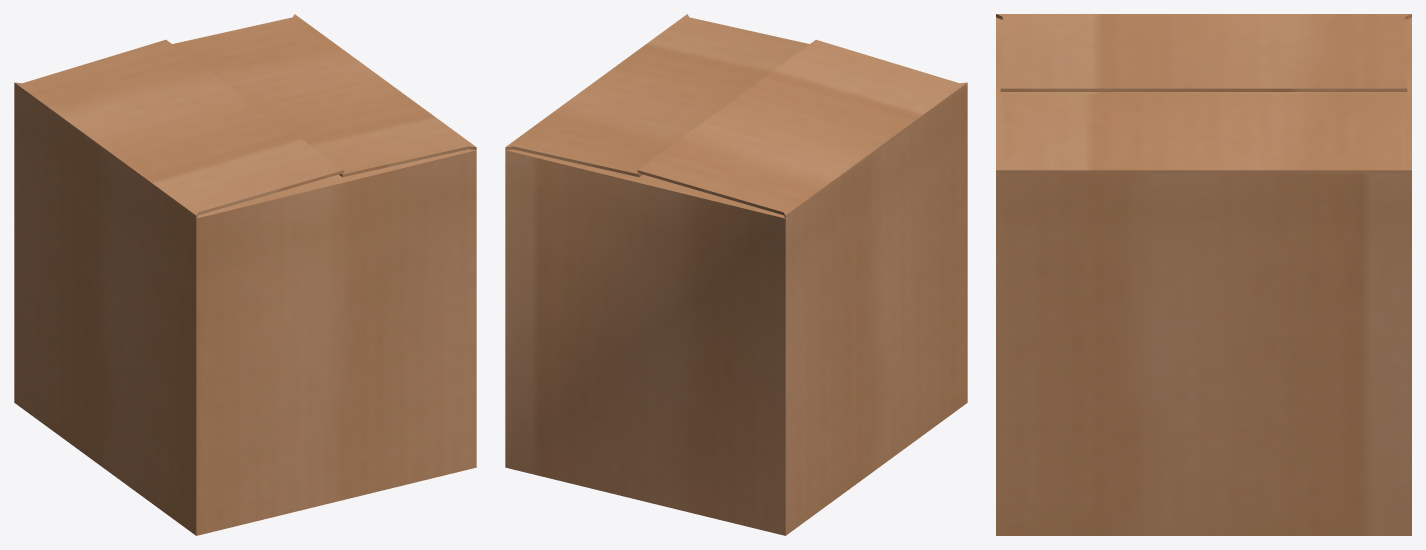
3 renders of one model, left to right at view 1: azimuth 30°, elevation 25°; view 2: azimuth 150°, elevation 25°; view 3: azimuth 270°, elevation 25°, orthographic. The views are drawn at different scales.
Visible parts, largest first — view 1: Box1v2; view 2: Box1v2; view 3: Box1v2.
Boxes of the visible parts, left/top/right/bottom form: Box1v2: left=14, top=14, right=476, bottom=535; Box1v2: left=505, top=14, right=967, bottom=535; Box1v2: left=996, top=14, right=1411, bottom=535.
Size of the model in its own units: 200 by 224 by 225.
Materials: 1 (1 with a texture image).
